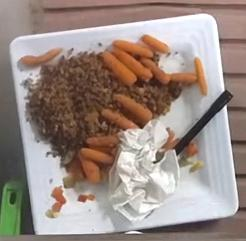beef: (26, 52, 117, 164), (111, 78, 182, 117)
carrots: (100, 33, 206, 94), (76, 134, 120, 183), (101, 94, 153, 130), (18, 47, 62, 68)
